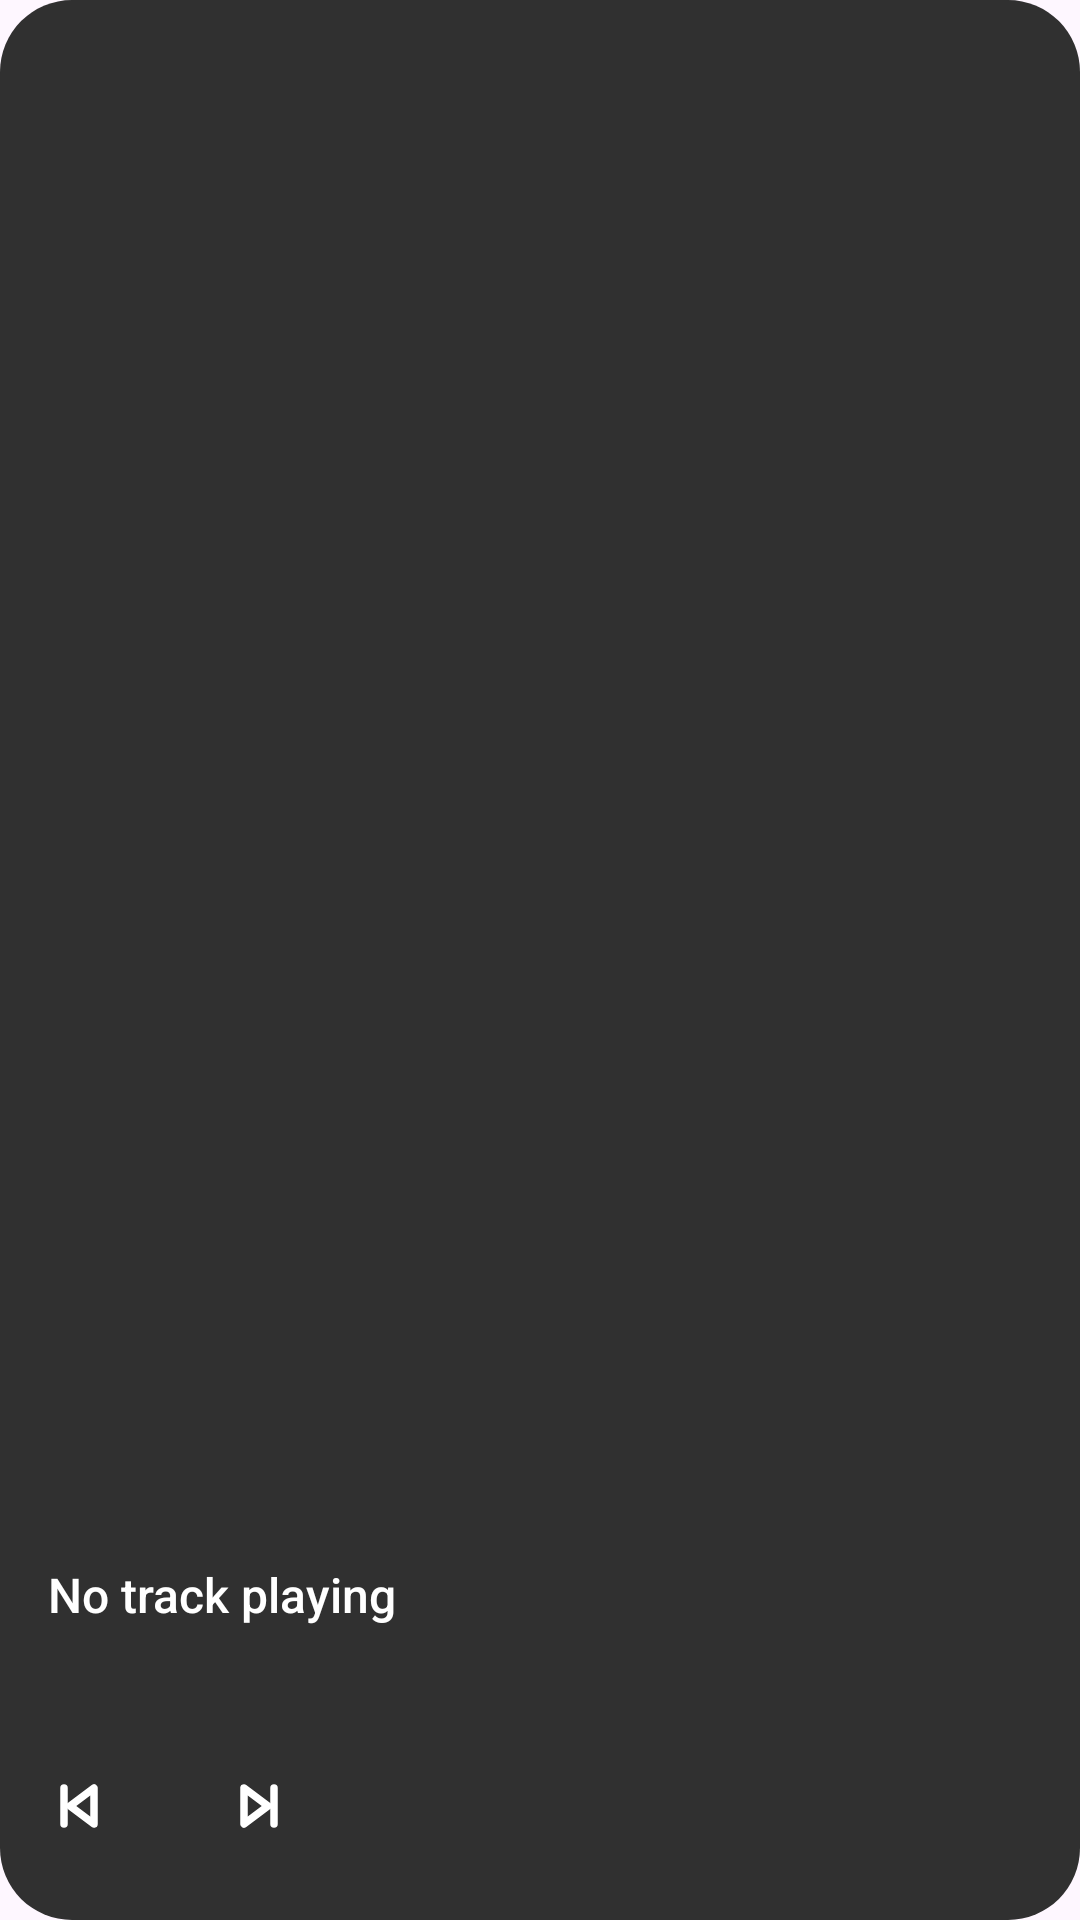

Named icons in this screenshot (1080px x 1920px) and their centers, [x,y]:
Next: [259,1806]
